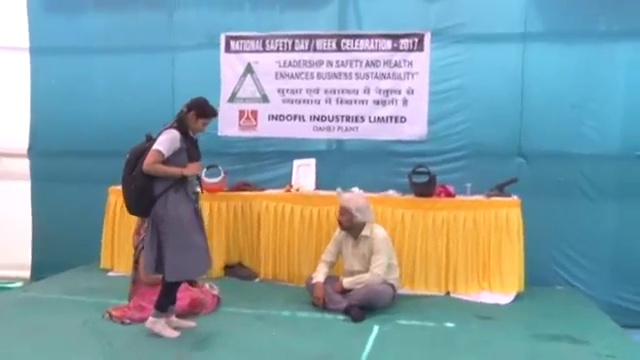helmet_off: (179, 96, 217, 139), (334, 193, 369, 236)
person: (120, 96, 217, 338), (302, 193, 401, 324)
